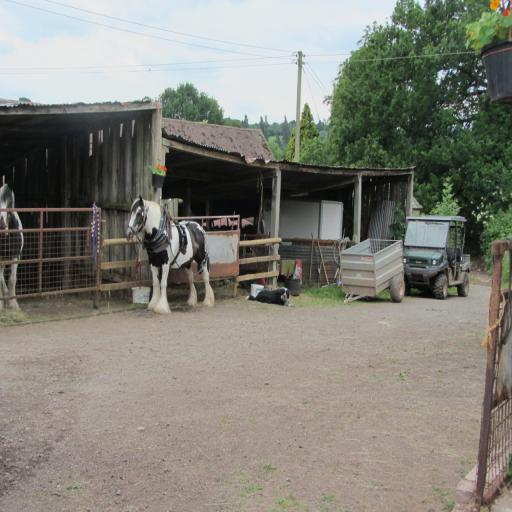horse: (126, 192, 216, 316), (0, 182, 25, 310)
